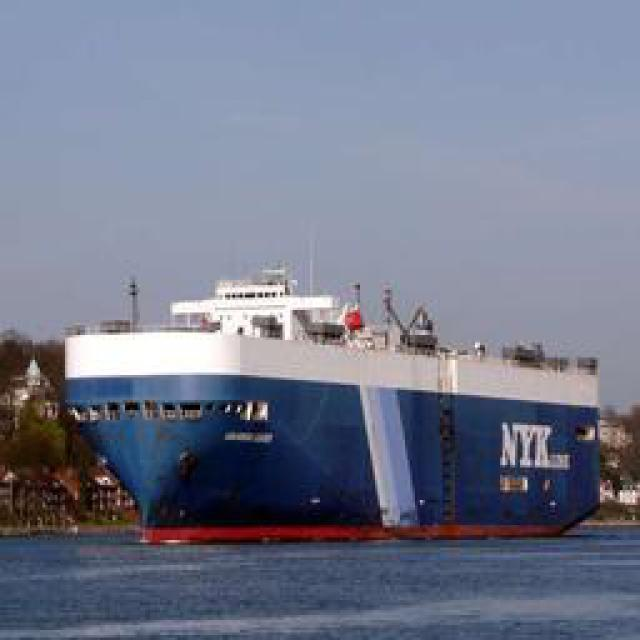Ship: (56, 293, 601, 541)
